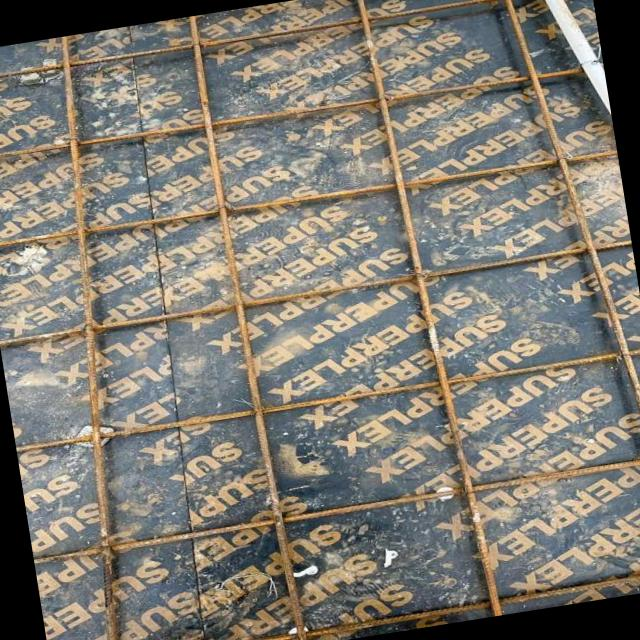ribbed bar: (7, 36, 168, 640), (354, 0, 503, 622), (183, 13, 310, 640), (491, 0, 640, 470), (0, 143, 617, 256), (0, 239, 632, 348), (0, 55, 603, 169), (16, 346, 640, 454), (33, 454, 640, 564), (0, 0, 590, 85), (51, 568, 640, 640)
